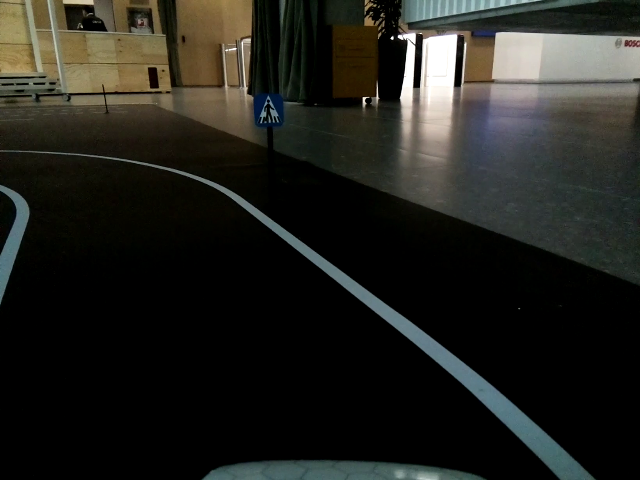pedestrians: (253, 96, 284, 127)
